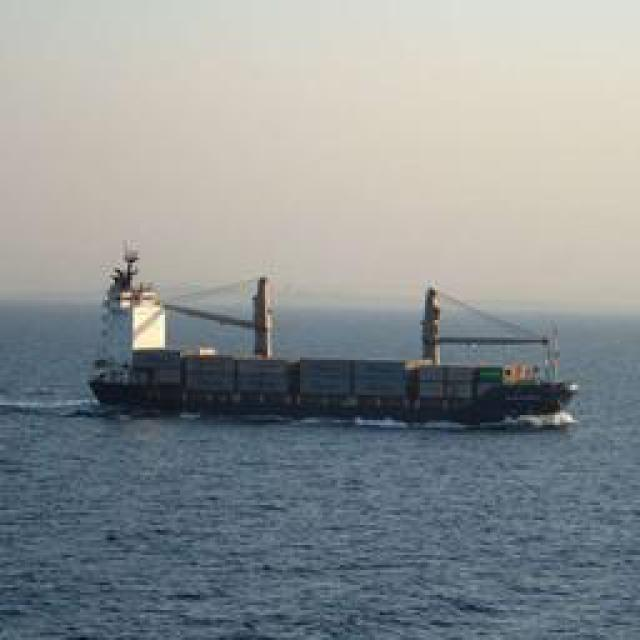Ship: (81, 276, 581, 429)
